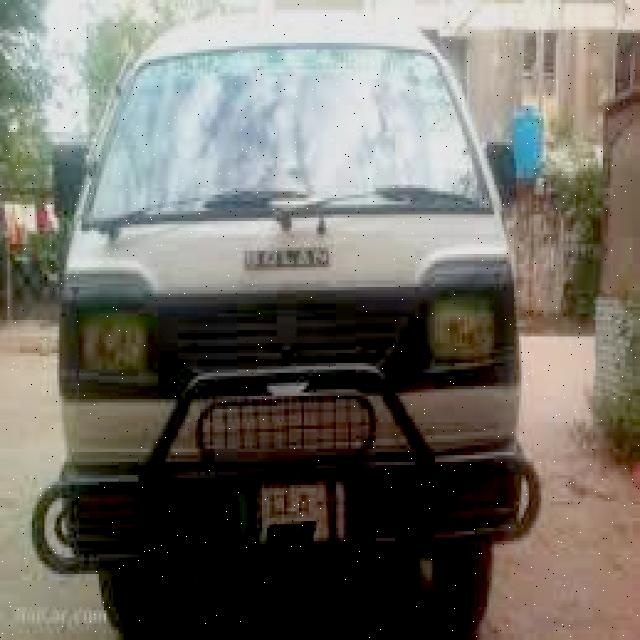Van: (32, 13, 549, 640)
